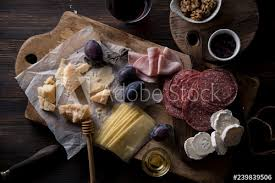Chicken: (138, 52, 168, 78)
